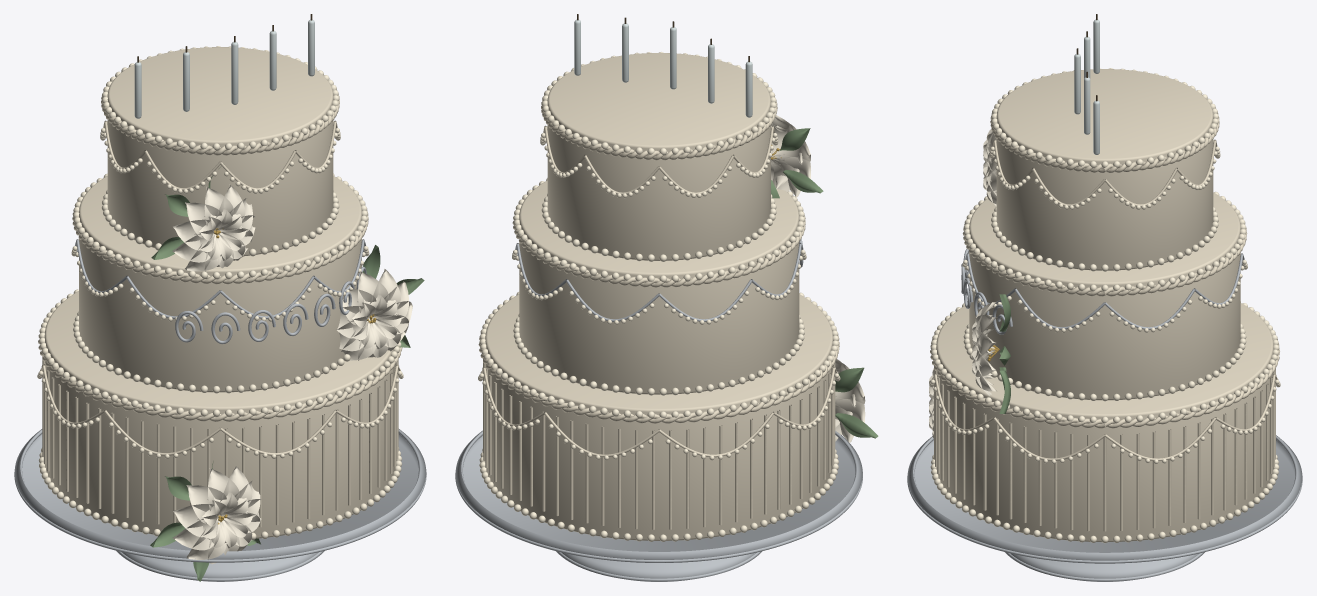
File: birthday-cake.glb
3 views of the same model, side by side, from view 1: azimuth 30°, elevation 25°; view 2: azimuth 150°, elevation 25°; view 3: azimuth 270°, elevation 25° (orthographic). The views are drawn at different scales.
Visible parts, largest first — view 1: Ivory cream merged, Antique silver merged, Ivory flower merged, Sugar pearl merged, Sage leaf merged, Candle wax merged; view 2: Ivory cream merged, Antique silver merged, Sugar pearl merged, Ivory flower merged, Sage leaf merged, Candle wax merged; view 3: Ivory cream merged, Antique silver merged, Sugar pearl merged, Ivory flower merged, Candle wax merged, Sage leaf merged.
Part boxes in pixels (x1,y1,x2,y2): Ivory cream merged: (38,47,402,538); Antique silver merged: (14,239,426,581); Ivory flower merged: (172,184,412,564); Sugar pearl merged: (37,46,403,540); Sage leaf merged: (150,166,424,581); Candle wax merged: (134,19,314,118); Ivory cream merged: (478,53,839,540); Antique silver merged: (455,239,862,581); Sugar pearl merged: (478,52,840,541); Ivory flower merged: (771,115,865,442); Sage leaf merged: (771,128,878,438); Candle wax merged: (574,19,752,117); Ivory cream merged: (930,69,1279,542); Antique silver merged: (907,249,1302,581); Sugar pearl merged: (929,68,1280,543); Ivory flower merged: (929,128,996,438); Candle wax merged: (1074,19,1099,154); Sage leaf merged: (999,294,1010,413).
Bounding box in the file's own units: 2.88 × 3.97 × 2.88.
